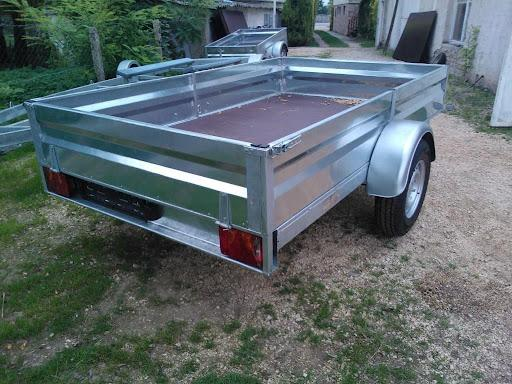trailer: (24, 55, 450, 275)
